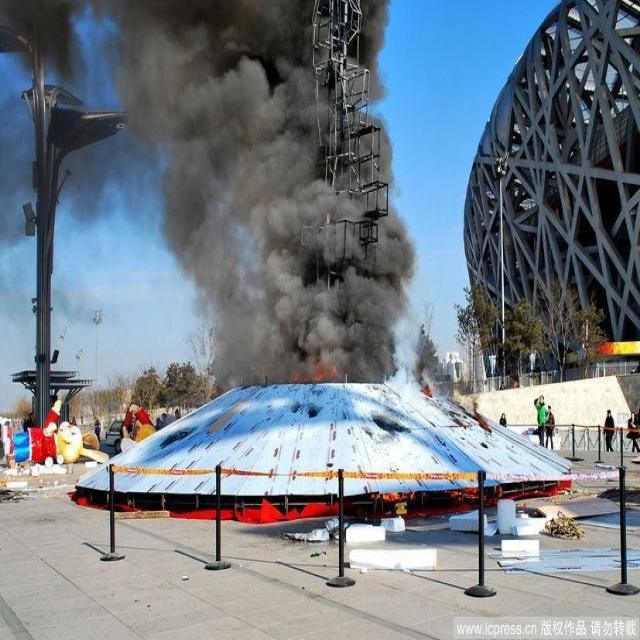Smoke: (1, 1, 449, 403)
